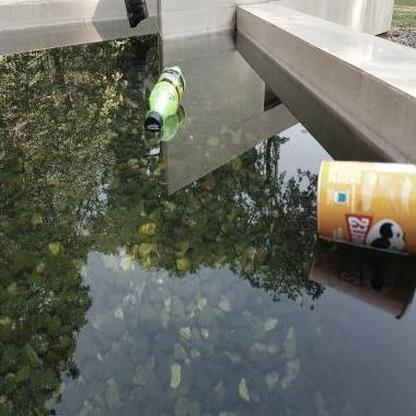plastic bottle: (145, 66, 187, 129)
